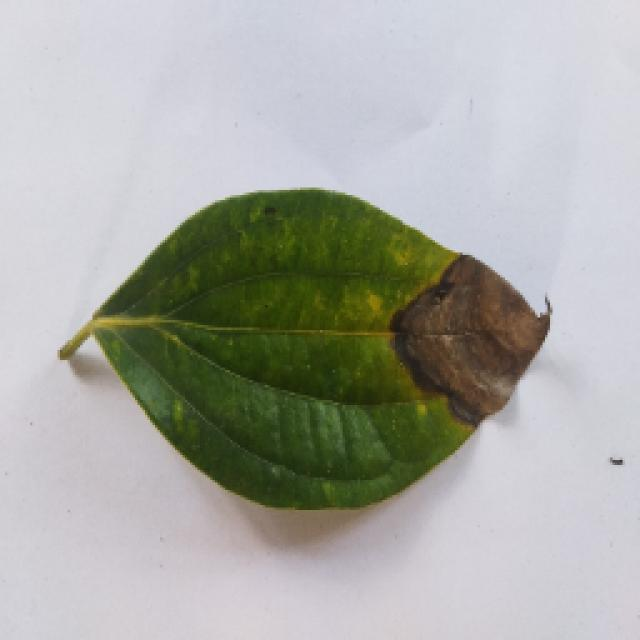footrot: (57, 185, 545, 507)
